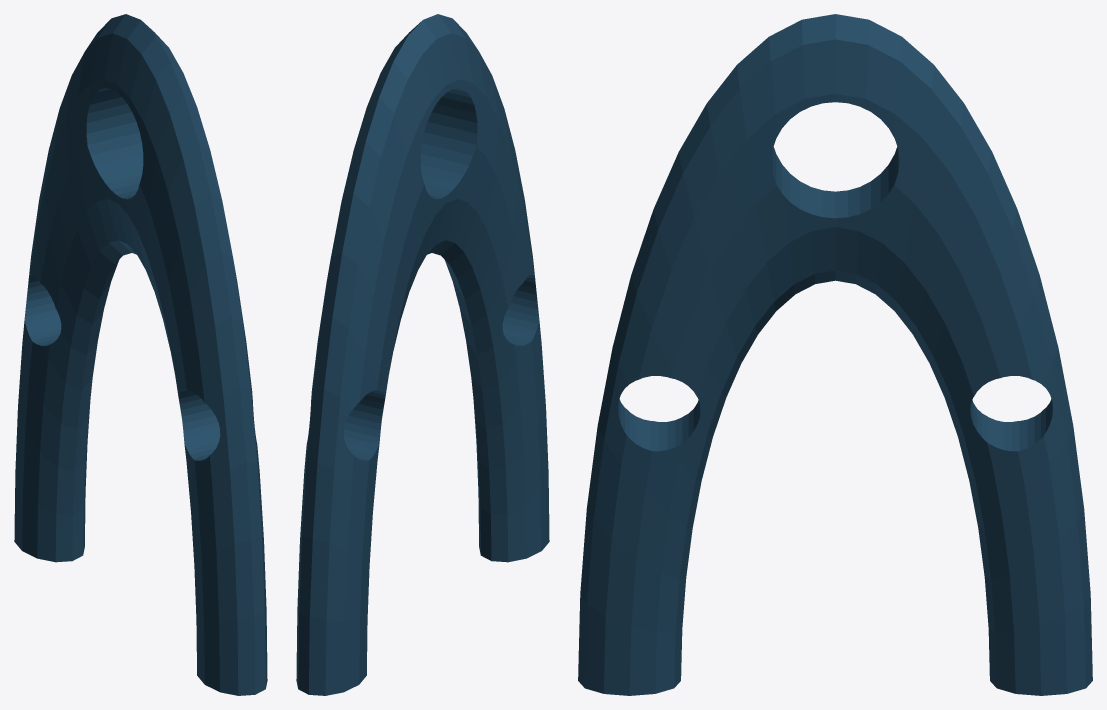
Rendered from tor.glb.
3 renders of one model, left to right at view 1: azimuth 30°, elevation 25°; view 2: azimuth 150°, elevation 25°; view 3: azimuth 270°, elevation 25°, orthographic. The views are drawn at different scales.
Parts seen in each view (by area): view 1: Torus; view 2: Torus; view 3: Torus.
Part boxes in pixels (bbox=[...]): Torus: bbox=[14, 14, 267, 695]; Torus: bbox=[296, 14, 549, 695]; Torus: bbox=[578, 14, 1092, 695].
Size of the model in its own units: 0.5237 by 5.39 by 3.77.
